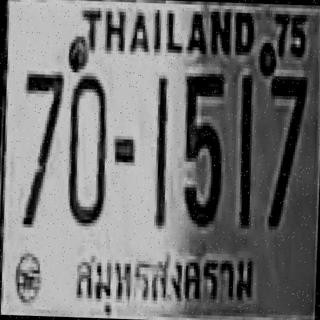N00: (66, 72, 109, 224)
N01: (152, 75, 169, 226), (236, 75, 253, 225)
N05: (180, 70, 223, 224)
N07: (19, 68, 64, 226), (264, 72, 306, 227)
P59: (68, 242, 268, 320)
